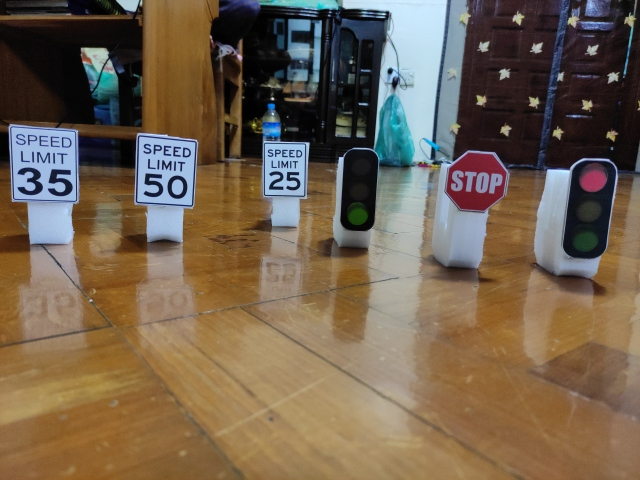Green Traffic Light: (342, 148, 375, 231)
Red Traffic Light: (566, 159, 614, 259)
Speed Limit 25: (261, 141, 308, 197)
Speed Limit 35: (9, 124, 80, 204)
Speed Limit 50: (135, 133, 195, 206)
Stop Sign: (445, 153, 507, 213)
